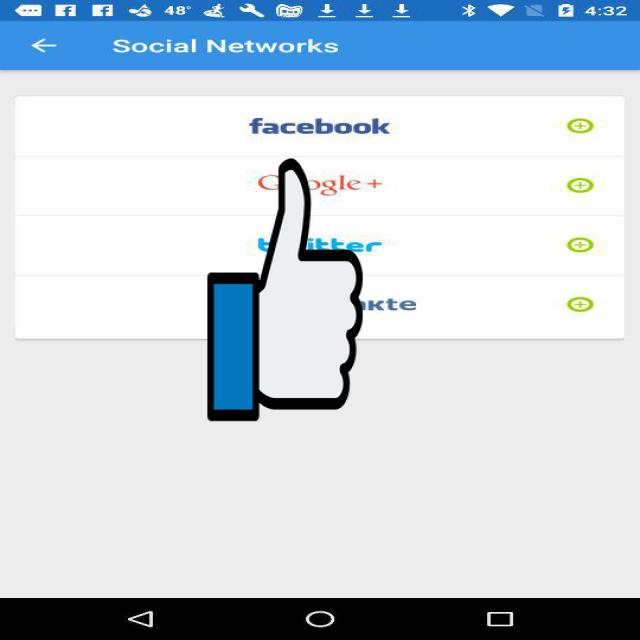privacy zuckering: (207, 152, 363, 426)
